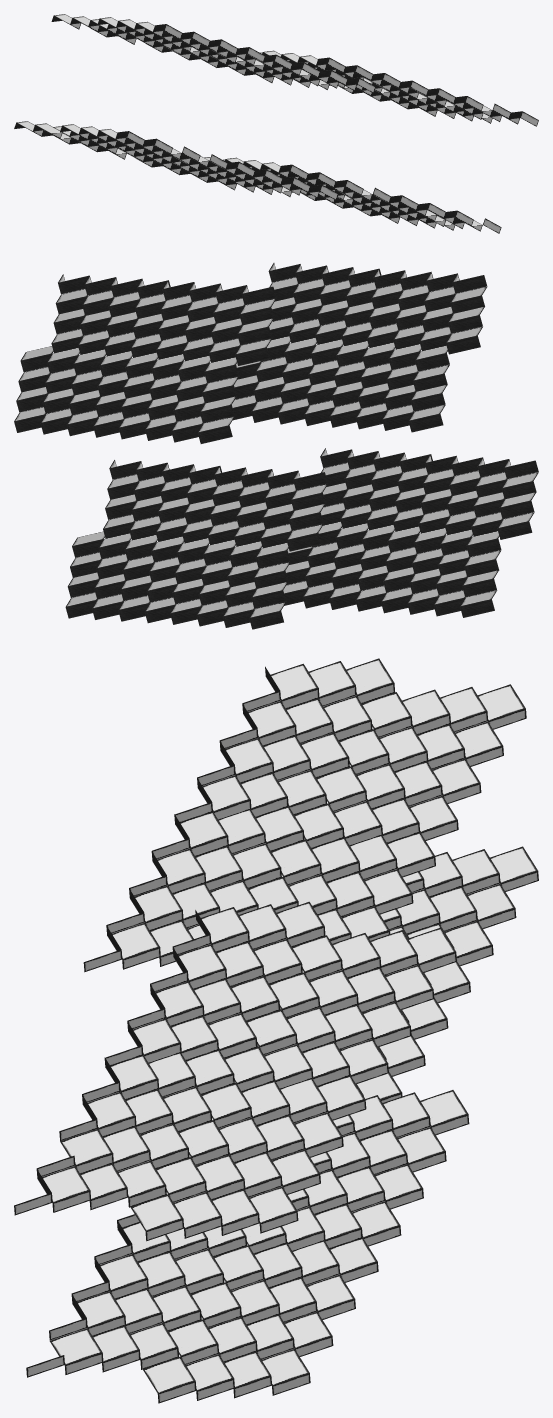
The model's file is scacco.dae.
3 renders of one model, top to bottom at view 1: azimuth 30°, elevation 25°; view 2: azimuth 150°, elevation 25°; view 3: azimuth 270°, elevation 25°, orthographic. The views are drawn at different scales.
Visible parts, largest first — view 1: no part large enough to name; view 2: no part large enough to name; view 3: scacco_03 (×8), scacco_03.3 (×2), scacco_03.40 (×2), scacco_03.39 (×2), scacco_03.2 (×2), scacco_03.4 (×2), scacco_03.1 (×2), scacco_03.37 (×2), scacco_03.55 (×2), scacco_03.16 (×2), scacco_03.5 (×2), scacco_03.53 (×2) (+85 smaller).
Part boxes in pixels (x1,y1,x2,y2): scacco_03 (×8): (224, 933, 380, 1083); scacco_03.3 (×2): (130, 1194, 195, 1393); scacco_03.40 (×2): (60, 1129, 124, 1327); scacco_03.39 (×2): (38, 1166, 102, 1364); scacco_03.2 (×2): (201, 1083, 263, 1281); scacco_03.4 (×2): (156, 1157, 217, 1356); scacco_03.1 (×2): (179, 1120, 240, 1319); scacco_03.37 (×2): (82, 1091, 147, 1290); scacco_03.55 (×2): (118, 1160, 177, 1359); scacco_03.16 (×2): (363, 1001, 422, 1200); scacco_03.5 (×2): (219, 1117, 279, 1316); scacco_03.53 (×2): (163, 1086, 223, 1285).
Bounding box in the file's own units: 8614 × 5451 × 5187.
Materials: 3 (3 with a texture image).
